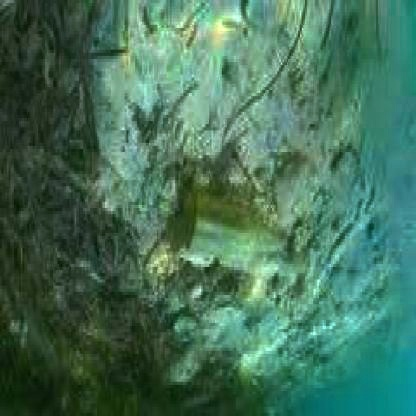gbottle: (178, 188, 316, 294)
